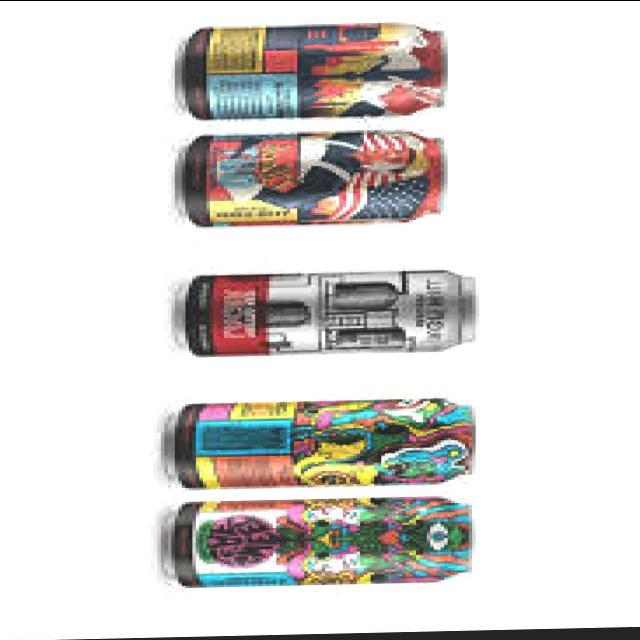litter: (157, 494, 482, 592), (157, 395, 485, 492), (168, 127, 456, 235), (165, 266, 482, 364), (168, 18, 454, 125)
